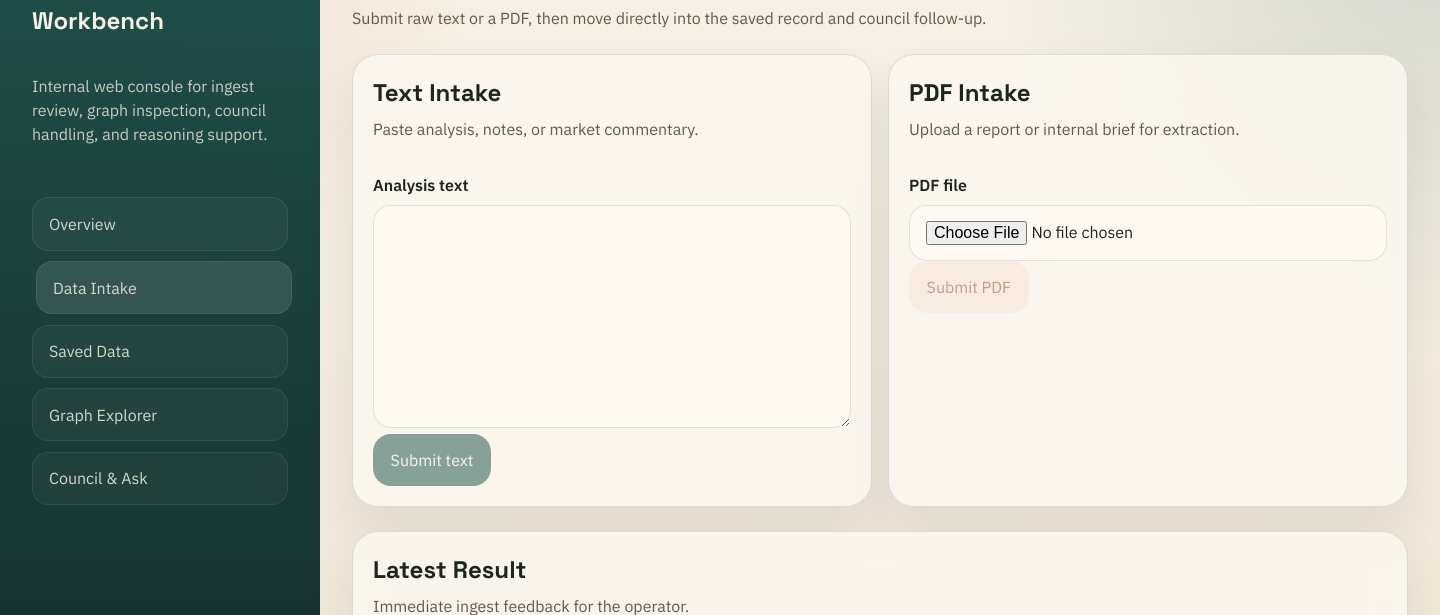
Data intake › submits text input and shows ingest result
This screenshot has width=1440, height=615.
Type "Rates are falling and cyclicals respond." into the text box labelled "Analysis text". click: (612, 316)
box: top-left (373, 205), bottom-right (851, 428)
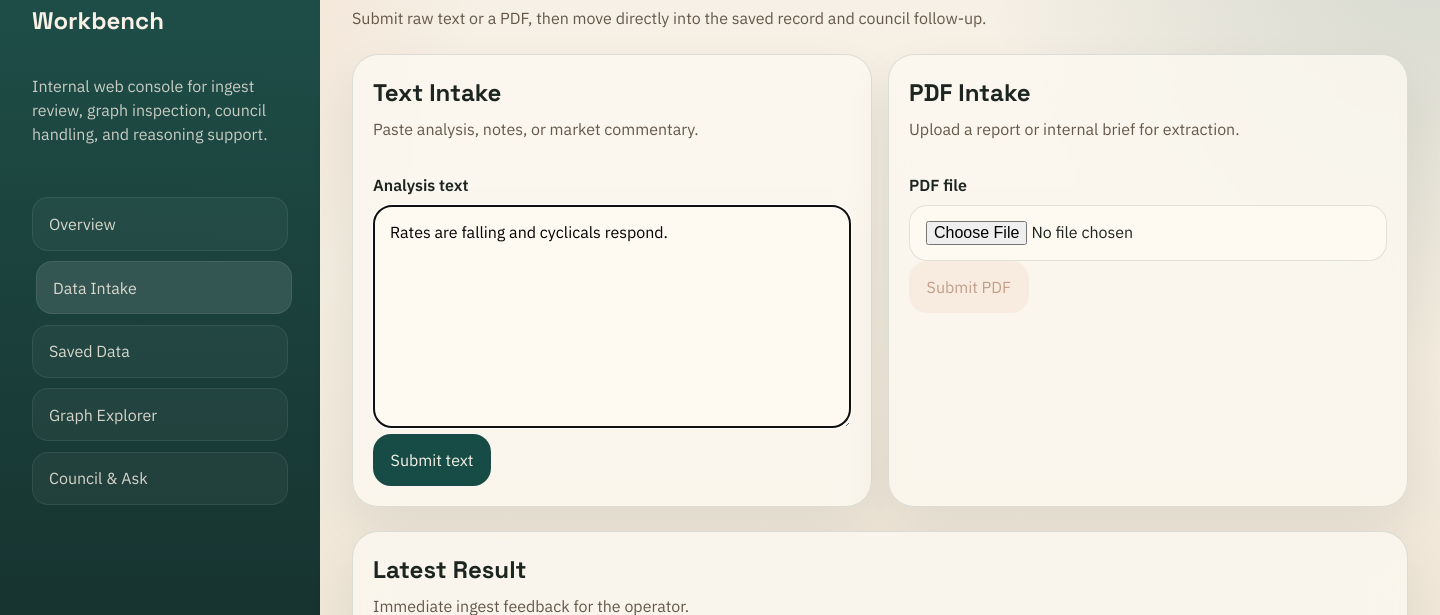
Click the button "Submit text". click: (432, 460)
box: top-left (373, 434), bottom-right (491, 486)
(page scrolled)
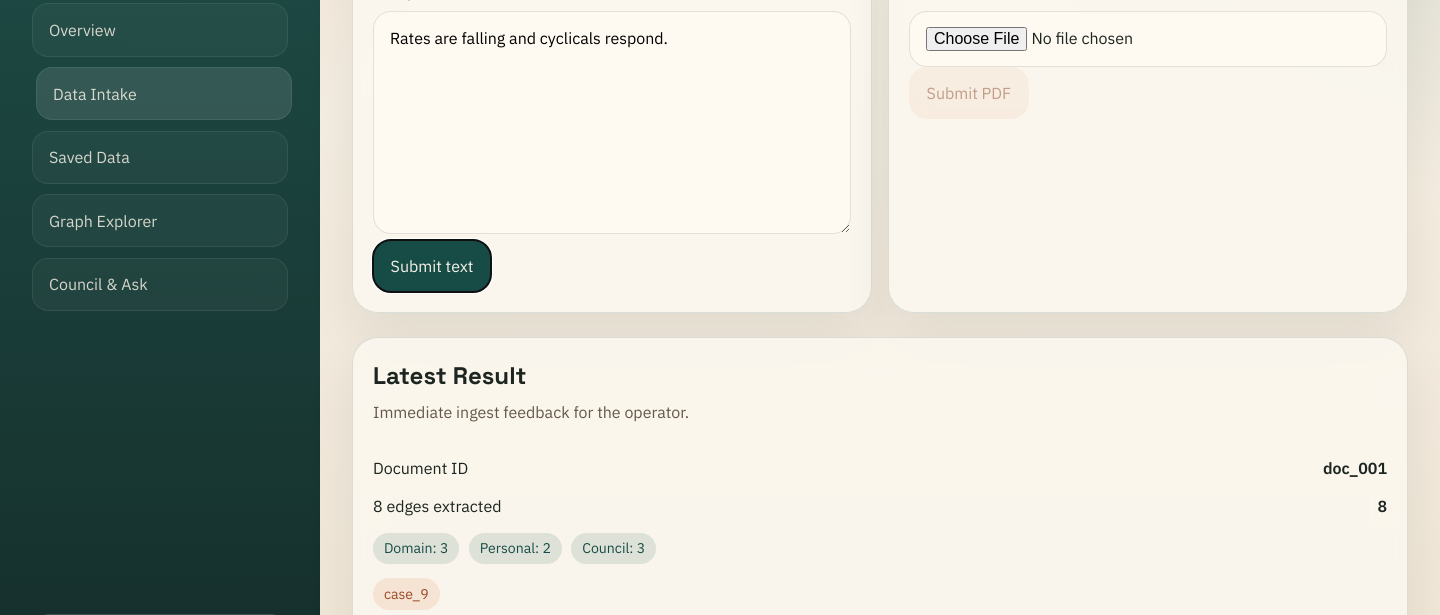
Check: the text "doc_001" is shown, box top-left (1323, 456), bottom-right (1387, 480)
Check: the text "case_9" is shown, box top-left (373, 578), bottom-right (440, 610)
